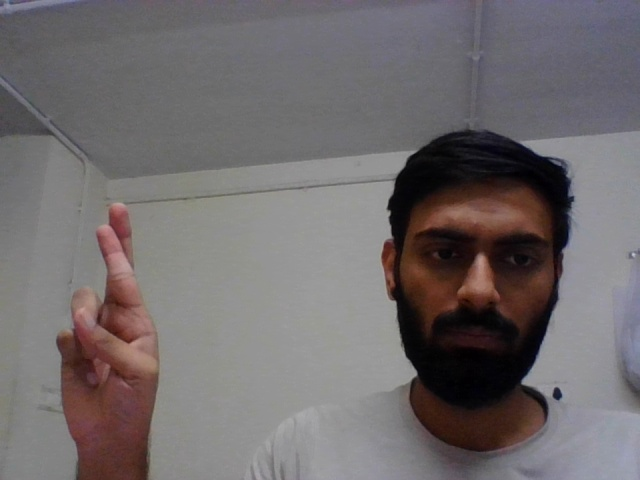R: (48, 196, 168, 476)
